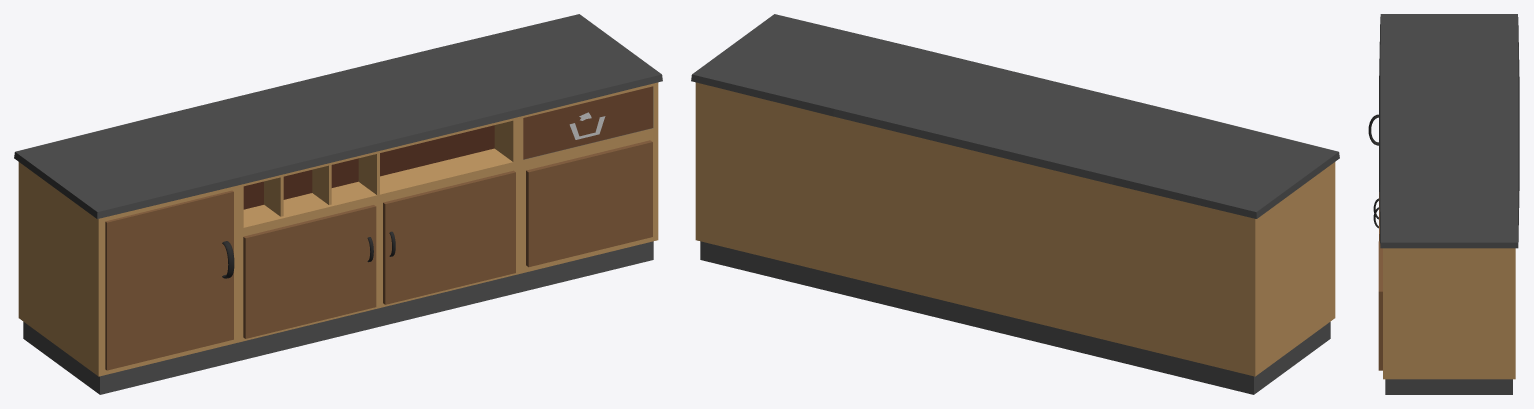
The model's file is Med Food Counter w_Garbage Light Brown.fbx.
3 views of the same model, side by side, from view 1: azimuth 30°, elevation 25°; view 2: azimuth 150°, elevation 25°; view 3: azimuth 270°, elevation 25° (orthographic). The views are drawn at different scales.
Parts seen in each view (by area): view 1: Med Food Counter w_Garbage Light Brown; view 2: Med Food Counter w_Garbage Light Brown; view 3: Med Food Counter w_Garbage Light Brown.
Part boxes in pixels (box(x1,y1,x2,y2)): Med Food Counter w_Garbage Light Brown: box(14, 14, 662, 394); Med Food Counter w_Garbage Light Brown: box(691, 14, 1339, 394); Med Food Counter w_Garbage Light Brown: box(1368, 14, 1519, 394).
Size of the model in its own units: 305 by 96.28 by 85.04.
Materials: 1 (1 with a texture image).
